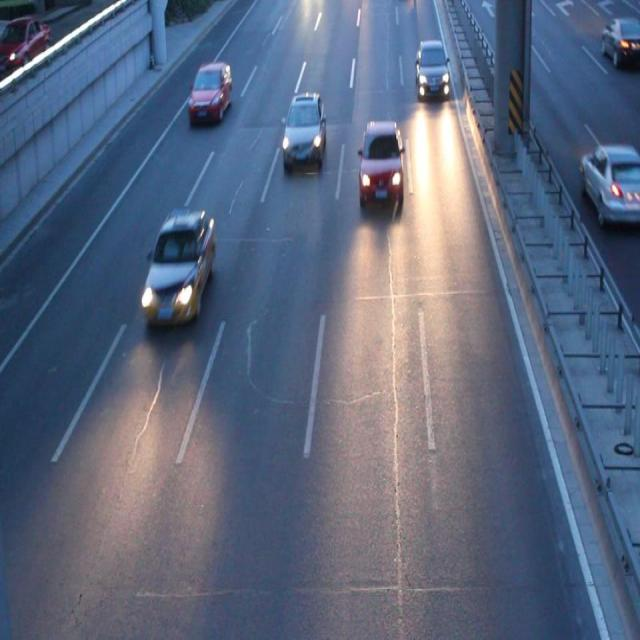car: (140, 210, 215, 326), (358, 121, 403, 205), (281, 93, 325, 170), (188, 65, 230, 120), (414, 40, 449, 97)
